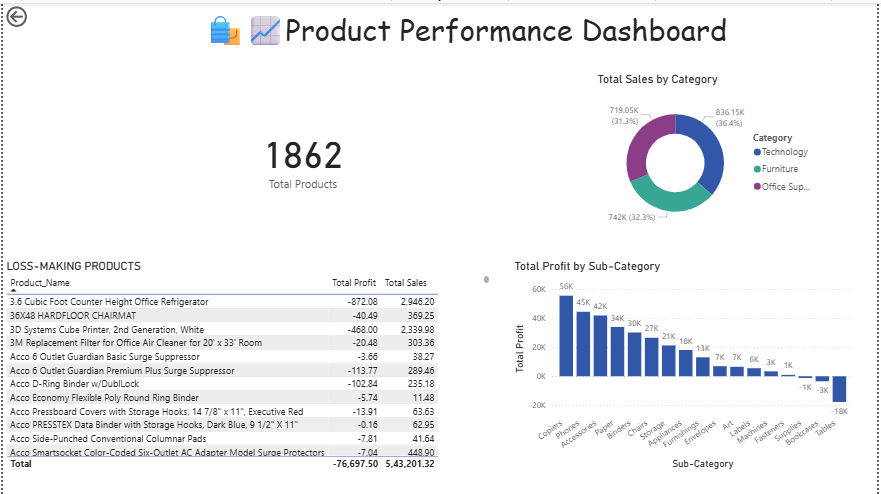

The page's visual inventory and layout, read from the dashboard file:
{"tool":"powerbi","page":{"name":"PRODUCT ANALYSIS","canvas":[1280,720],"ordinal":2},"visuals":[{"type":"card","fields":{"Values":["Measure_Table.Total Products"]},"box":[291.4,121.4,295.7,208.6],"z":0},{"type":"donutChart","fields":{"Category":["Orders.Category"],"Y":["Measure_Table.Total Sales"]},"box":[864.3,101.4,335.7,247.1],"z":1000},{"type":"columnChart","fields":{"Category":["Products.Sub-Category"],"Y":["Measure_Table.Total Profit"]},"box":[742.9,374.3,505.7,312.9],"z":3000},{"type":"tableEx","title":"LOSS-MAKING PRODUCTS","fields":{"Values":["Products.Product_Name","Measure_Table.Total Profit","Measure_Table.Total Sales"]},"box":[0,374.3,717.1,312.9],"z":4000},{"type":"actionButton","box":[0,0,100,40],"z":5002},{"type":"textbox","box":[291.4,2.9,790,74.3],"z":5003}]}

Visuals, with their boxes on the page's 1280x720 design canvas (x1, y1, x2, y2). These are canvas units, not pixel positions in the 881x494 screenshot, which may show the page scaled, cropped or inside an application window:
card - Measure_Table.Total Products: Rect(291, 121, 587, 330)
donutChart - Orders.Category x Measure_Table.Total Sales: Rect(864, 101, 1200, 348)
columnChart - Products.Sub-Category x Measure_Table.Total Profit: Rect(743, 374, 1249, 687)
"LOSS-MAKING PRODUCTS" tableEx: Rect(0, 374, 717, 687)
actionButton: Rect(0, 0, 100, 40)
textbox: Rect(291, 3, 1081, 77)
